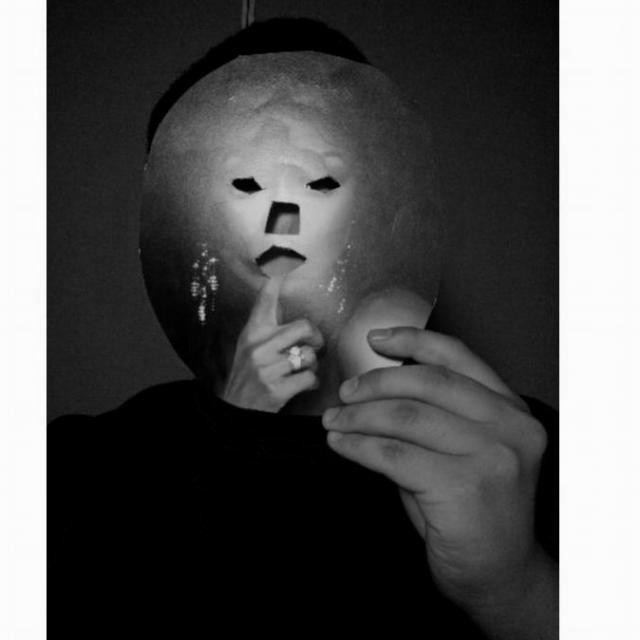fake: (134, 52, 448, 416)
